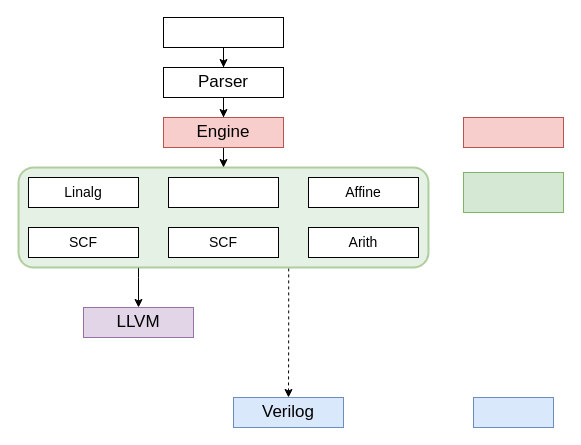
This 581x445 diagram has some shape labels left out. The shapes that lost their labels are listed below. From the top down, each one's box as (x1, y1, x2, y2) in pixels, then its label:
(162, 16, 284, 48): Onnx
(462, 116, 564, 148): Custom Dialect
(168, 176, 278, 208): Memref
(462, 172, 564, 212): Standard MLIR dialects
(472, 396, 554, 428): In progress
